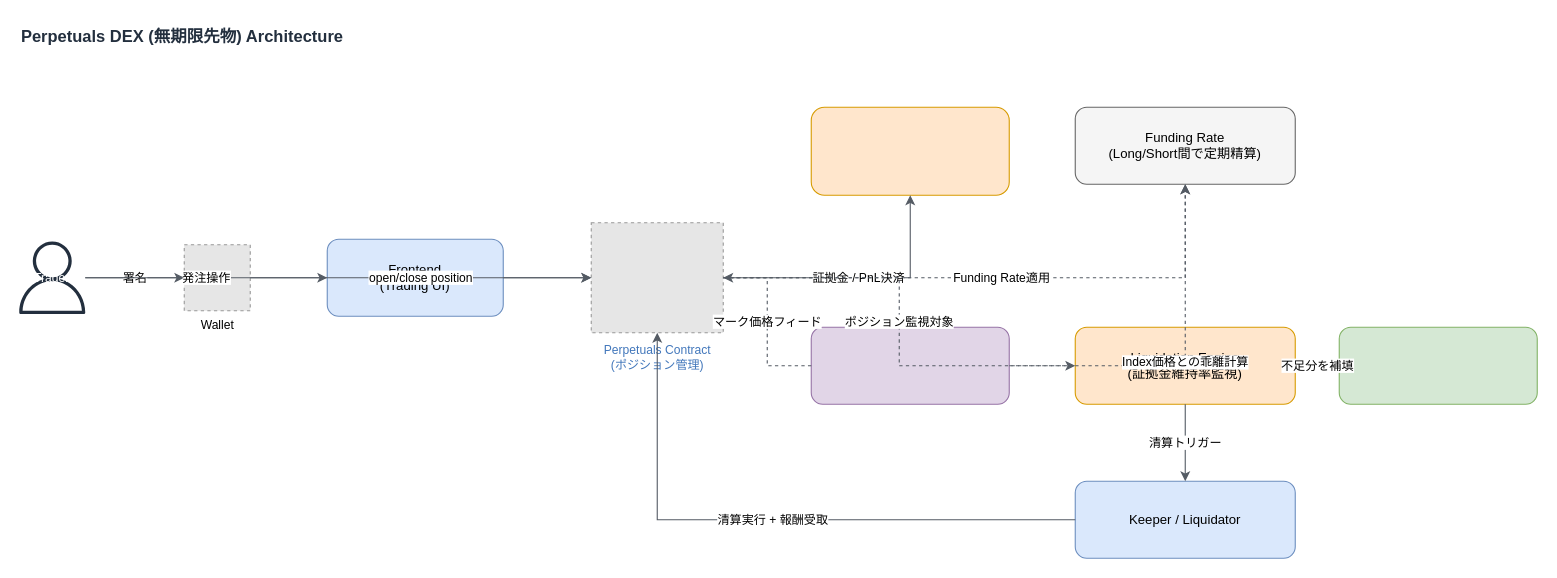
This 1557x578 diagram has some shape labels left out. Grey dashed boxes stand in for pictures. The shapes that lost their labels are listed below. From the top down, each one's centre as x and y in pixels, then its label:
At pixel 909 150: "Liquidity Vault (トレーダーの対向)".
At pixel 909 365: "Price Oracle (マーク価格)".
At pixel 1437 365: "Insurance Fund (清算損失を補填)".
